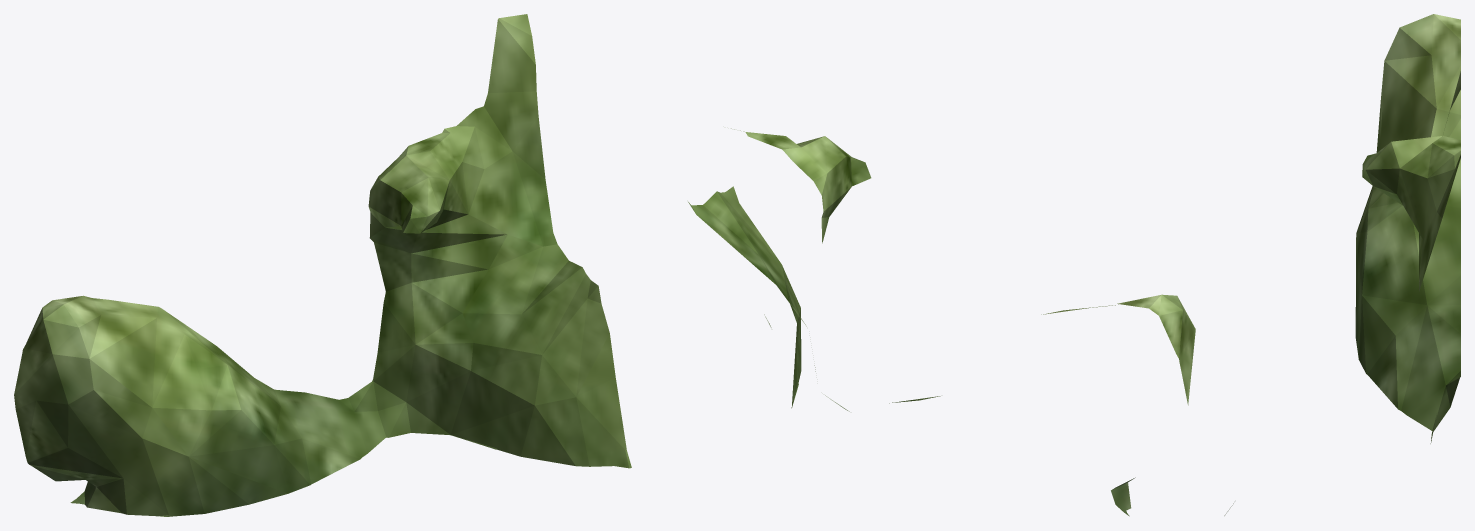
The picture shows the model from 3 angles, left to right: view 1: azimuth 30°, elevation 25°; view 2: azimuth 150°, elevation 25°; view 3: azimuth 270°, elevation 25°; orthographic projection. The views are drawn at different scales.
Bounding box in the file's own units: 1.61 × 1.14 × 0.5666.
Materials: 1 (1 with a texture image).
